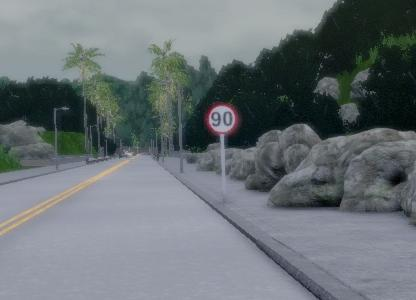Speed_90: (203, 102, 241, 136)
